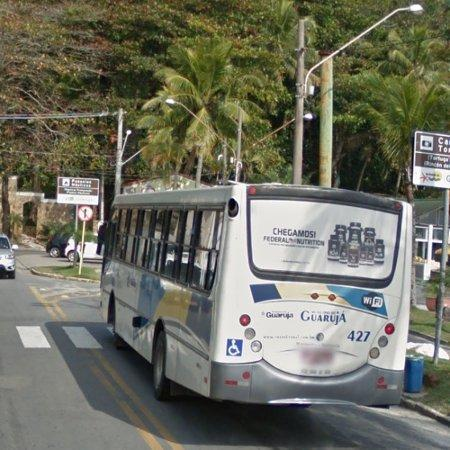buses: (102, 184, 413, 405)
